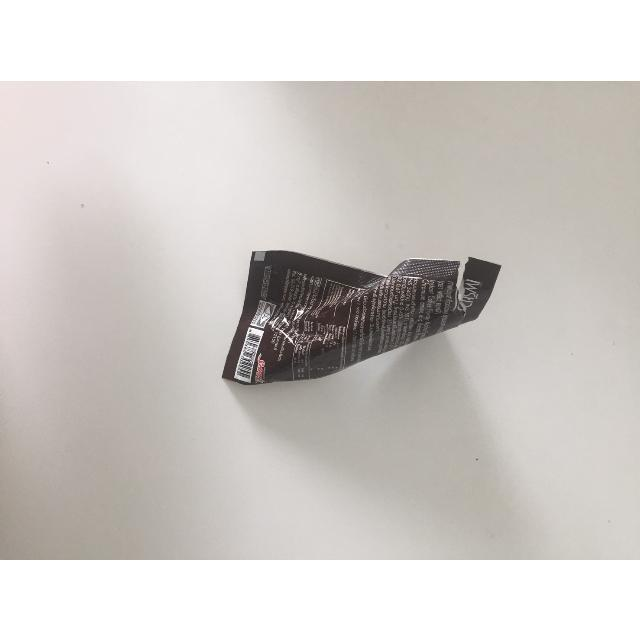Paquete de plastico: (222, 252, 503, 392)
